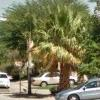Palm tree: (38, 6, 86, 85)
